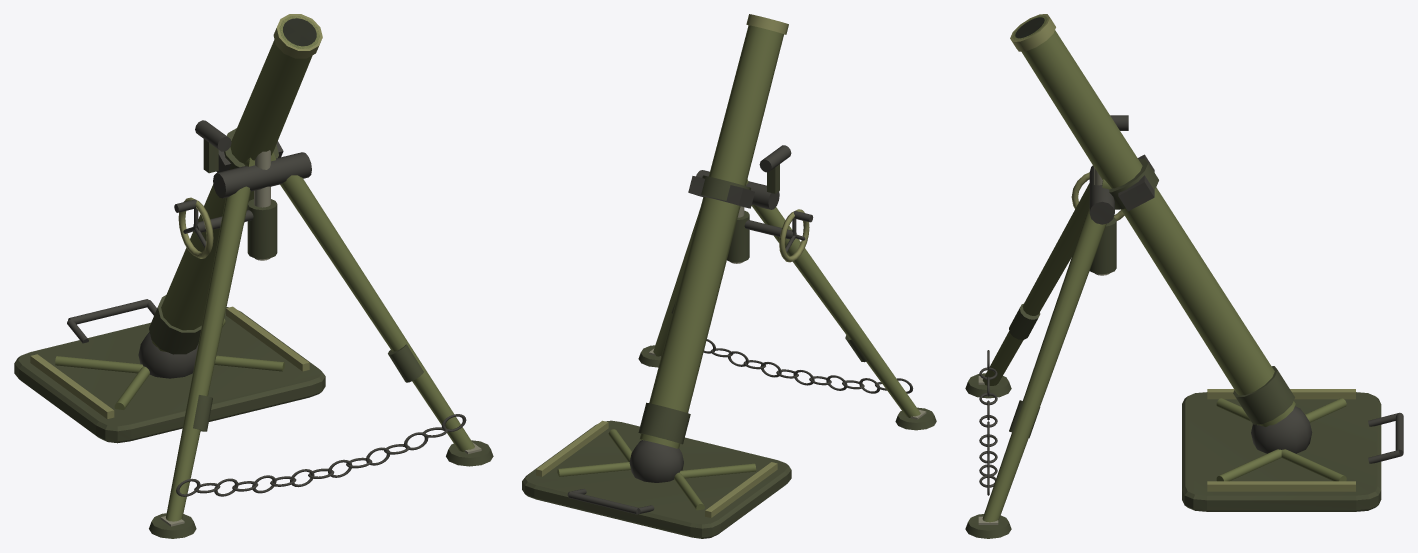
3 views of the same model, side by side, from view 1: azimuth 30°, elevation 25°; view 2: azimuth 150°, elevation 25°; view 3: azimuth 270°, elevation 25° (orthographic). The views are drawn at different scales.
Parts seen in each view (by area): view 1: BasePlate_Darkolivepaint, Bipod_Olivepaint, Tube_Olivepaint, Bipod_Darkiron, Bipod_Darkolivepaint, BasePlate_Darkiron, BasePlate_Raisedpaintededges, BasePlate_Olivepaint, Tube_Darkolivepaint, Tube_Raisedpaintededges, Bipod_Raisedpaintededges, Bipod_Rubbedsteel (+1 smaller); view 2: Tube_Olivepaint, BasePlate_Darkolivepaint, Bipod_Olivepaint, Bipod_Darkiron, BasePlate_Darkiron, Bipod_Darkolivepaint, Tube_Darkolivepaint, BasePlate_Olivepaint, BasePlate_Raisedpaintededges, Tube_Darkiron, Bipod_Raisedpaintededges; view 3: Tube_Olivepaint, BasePlate_Darkolivepaint, Bipod_Olivepaint, Bipod_Darkolivepaint, BasePlate_Darkiron, BasePlate_Raisedpaintededges, Tube_Darkolivepaint, Bipod_Darkiron, BasePlate_Olivepaint, Tube_Darkiron, Tube_Raisedpaintededges.
Boxes of the visible parts, x1,y1,x2,y2 form: BasePlate_Darkolivepaint: [14, 307, 325, 443]; Bipod_Olivepaint: [166, 152, 474, 521]; Tube_Olivepaint: [152, 16, 319, 352]; Bipod_Darkiron: [174, 120, 466, 496]; Bipod_Darkolivepaint: [149, 139, 493, 538]; BasePlate_Darkiron: [67, 299, 198, 378]; BasePlate_Raisedpaintededges: [30, 306, 309, 418]; BasePlate_Olivepaint: [55, 318, 284, 409]; Tube_Darkolivepaint: [149, 128, 278, 354]; Tube_Raisedpaintededges: [273, 14, 322, 58]; Bipod_Raisedpaintededges: [178, 197, 213, 258]; Bipod_Rubbedsteel: [160, 150, 481, 526]; Tube_Olivepaint: [640, 25, 783, 448]; BasePlate_Darkolivepaint: [522, 420, 791, 538]; Bipod_Olivepaint: [653, 179, 920, 417]; Bipod_Darkiron: [696, 145, 913, 393]; BasePlate_Darkiron: [567, 440, 683, 514]; Bipod_Darkolivepaint: [638, 164, 936, 430]; Tube_Darkolivepaint: [638, 175, 750, 444]; BasePlate_Olivepaint: [557, 429, 756, 510]; BasePlate_Raisedpaintededges: [536, 420, 777, 517]; Tube_Darkiron: [688, 176, 754, 208]; Bipod_Raisedpaintededges: [779, 209, 809, 262]; Tube_Olivepaint: [1012, 15, 1295, 426]; BasePlate_Darkolivepaint: [1182, 392, 1381, 511]; Bipod_Olivepaint: [982, 179, 1111, 522]; Bipod_Darkolivepaint: [965, 217, 1116, 538]; BasePlate_Darkiron: [1251, 406, 1403, 463]; BasePlate_Raisedpaintededges: [1207, 389, 1355, 491]; Tube_Darkolivepaint: [1109, 158, 1294, 424]; Bipod_Darkiron: [979, 115, 1128, 495]; BasePlate_Olivepaint: [1216, 398, 1346, 481]; Tube_Darkiron: [1118, 154, 1154, 211]; Tube_Raisedpaintededges: [1010, 14, 1055, 51].
Bounding box in the file's own units: 0.866 × 1.12 × 1.
